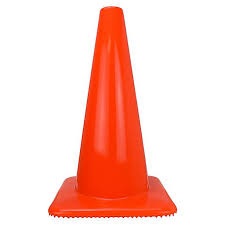cones: (47, 5, 178, 218)
